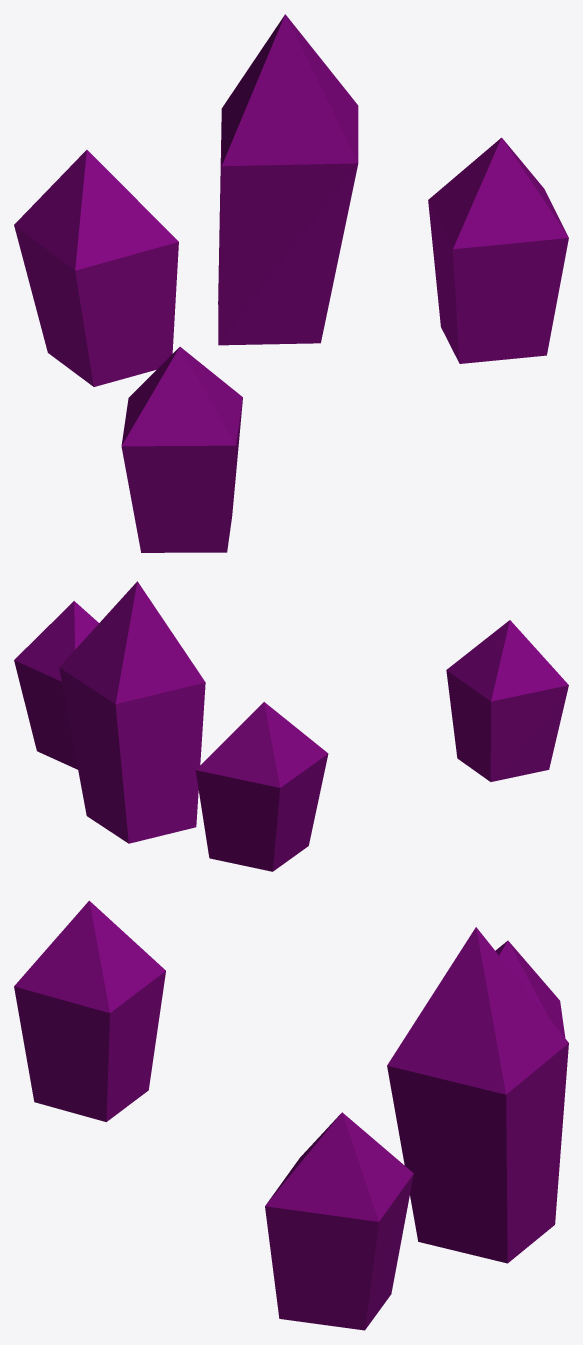
The model's file is crystal_vitium_3.obj.
3 renders of one model, top to bottom at view 1: azimuth 30°, elevation 25°; view 2: azimuth 150°, elevation 25°; view 3: azimuth 270°, elevation 25°, orthographic. The views are drawn at different scales.
Parts seen in each view (by area): view 1: s016, s017, s014, s015; view 2: s016, s017, s015, s014; view 3: s016, s015, s014, s017.
Boxes of the visible parts, box(x1,y1,x2,y2) form: s016: box(218, 14, 358, 345); s017: box(14, 150, 178, 386); s014: box(428, 137, 568, 363); s015: box(121, 347, 242, 552); s016: box(59, 581, 205, 843); s017: box(195, 702, 328, 871); s015: box(446, 620, 568, 781); s014: box(14, 601, 98, 769); s016: box(387, 927, 568, 1263); s015: box(14, 900, 165, 1122); s014: box(265, 1112, 413, 1330); s017: box(495, 940, 565, 1037).
Size of the model in its own units: 0.8279 by 0.4254 by 0.6865.
